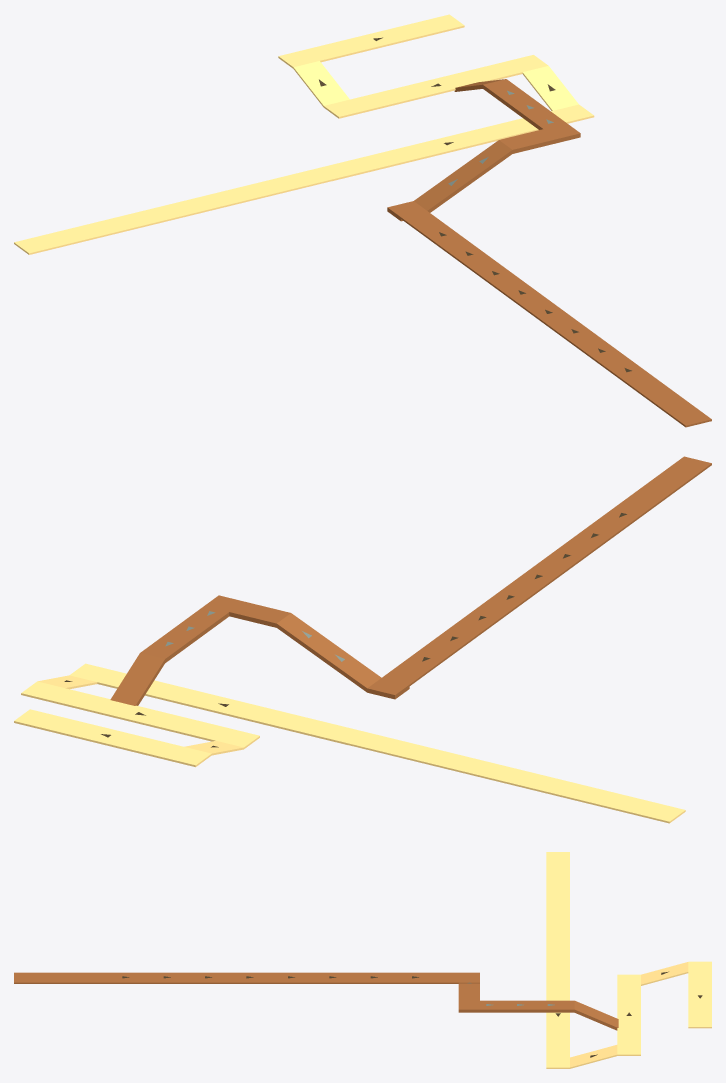
Rendered from Nivel_04_Madremonte_Movil_Gameplay.fbx.
3 views of the same model, one above another, from view 1: azimuth 30°, elevation 25°; view 2: azimuth 150°, elevation 25°; view 3: azimuth 270°, elevation 25° (orthographic). The views are drawn at different scales.
Visible parts, largest first — view 1: L04_Path_A_GP, L04_Path_Extension_S_GP, L04_Path_Secondary_v02_GP, L04_Path_Extension_W_GP; view 2: L04_Path_A_GP, L04_Path_Extension_S_GP, L04_Path_Secondary_v02_GP, L04_Path_Extension_W_GP; view 3: L04_Path_A_GP, L04_Path_Extension_S_GP, L04_Path_Extension_W_GP, L04_Path_Secondary_v02_GP.
Boxes of the visible parts, <box> form: L04_Path_A_GP: <box>278,14,594,181</box>; L04_Path_Extension_S_GP: <box>401,211,711,427</box>; L04_Path_Secondary_v02_GP: <box>387,79,580,221</box>; L04_Path_Extension_W_GP: <box>14,168,331,254</box>; L04_Path_A_GP: <box>14,663,363,767</box>; L04_Path_Extension_S_GP: <box>382,456,711,685</box>; L04_Path_Secondary_v02_GP: <box>110,595,409,705</box>; L04_Path_Extension_W_GP: <box>348,731,685,823</box>; L04_Path_A_GP: <box>546,961,711,1068</box>; L04_Path_Extension_S_GP: <box>14,972,458,983</box>; L04_Path_Extension_W_GP: <box>546,852,569,967</box>; L04_Path_Secondary_v02_GP: <box>458,972,618,1030</box>.
Bounding box in the file's own units: 43.09 × 3.24 × 59.
